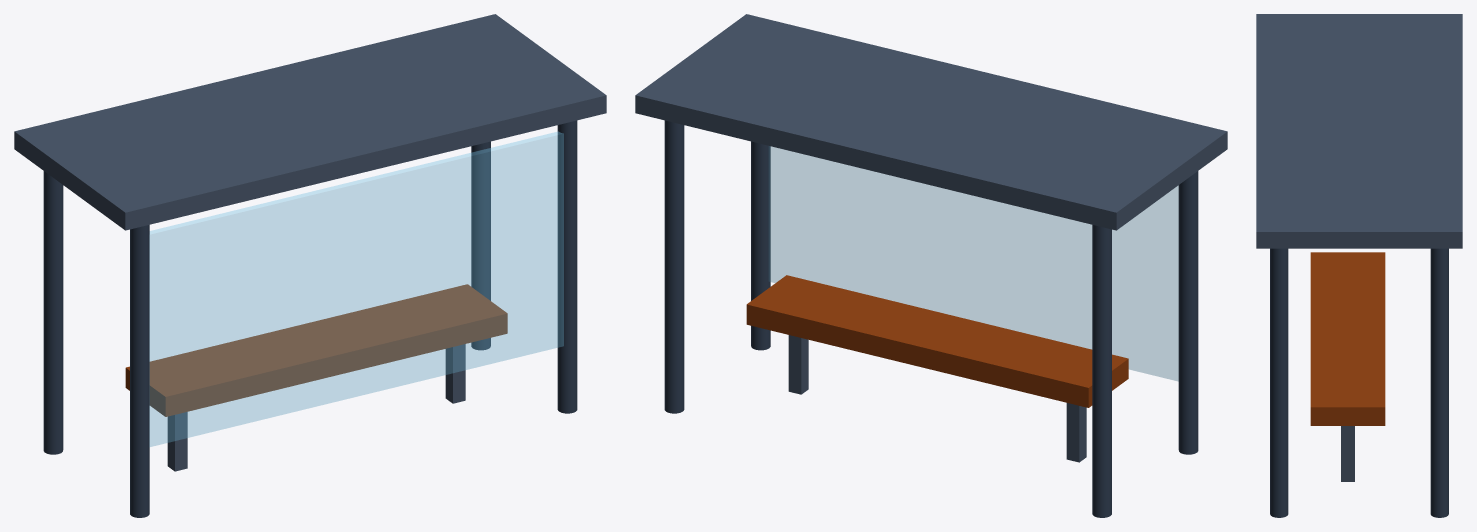
Rendered from bus-shelter.glb.
3 views of the same model, side by side, from view 1: azimuth 30°, elevation 25°; view 2: azimuth 150°, elevation 25°; view 3: azimuth 270°, elevation 25° (orthographic). The views are drawn at different scales.
Size of the model in its own units: 4.5 by 2.83 by 1.8.
